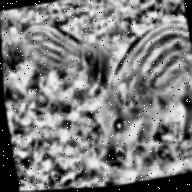boar: (85, 7, 192, 162)
